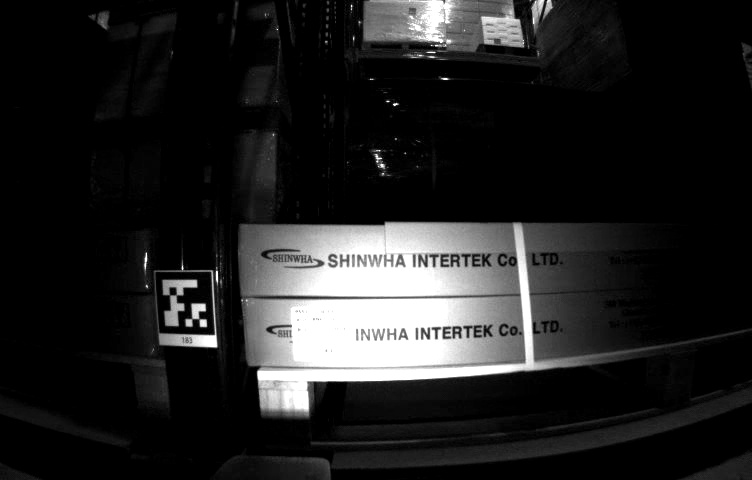True Barcode: (288, 306, 358, 362)
